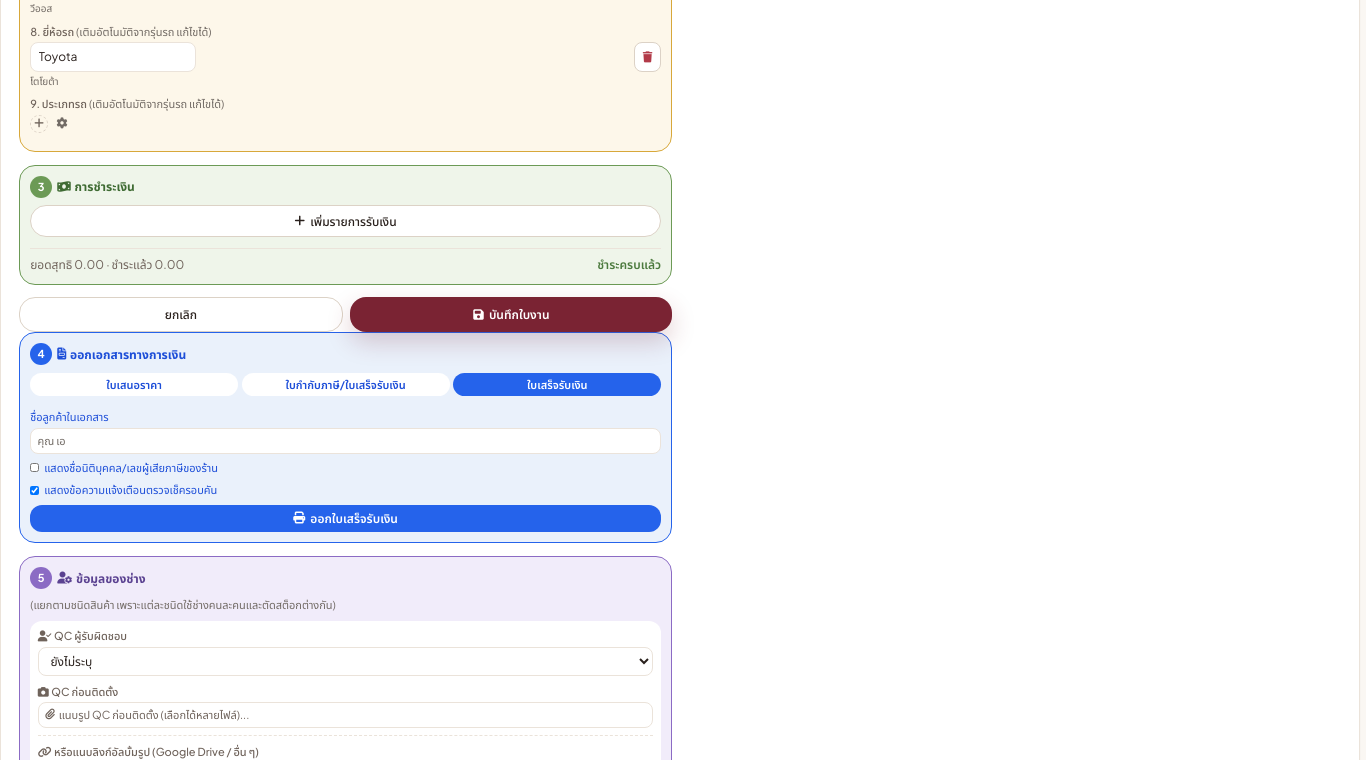
Test case: TicketDetail — บัญชีรับชำระบนใบเสนอราคา › puts the old choice back when the save is refused
This screenshot has width=1366, height=760.
(page scrolled)
Click the button "ใบเสนอราคา": (134, 385) [30,373,238,396]
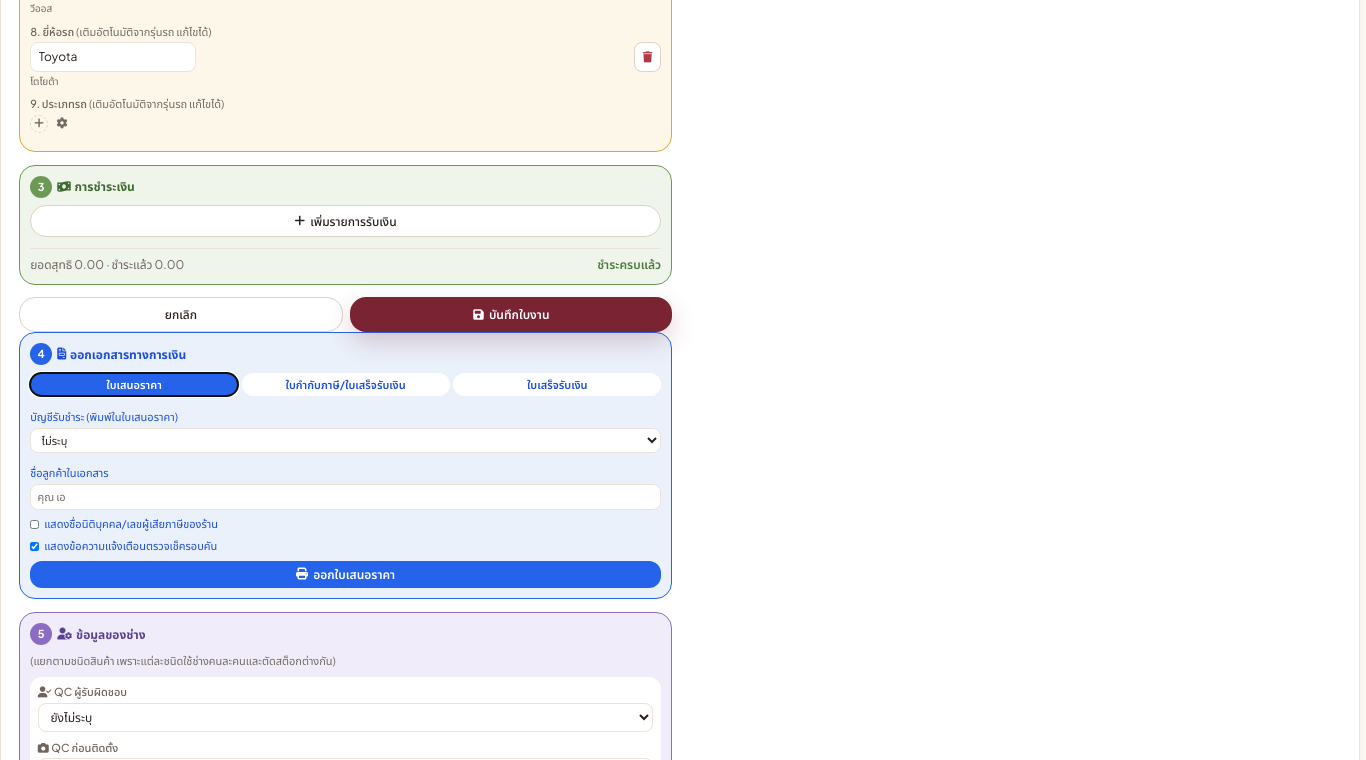
Select "กสิกร ออมทรัพย์ · เลขที่บัญชี 236-1-38053-6" in the dropdown named "บัญชีรับชำระ": (346, 440) [30,428,661,453]
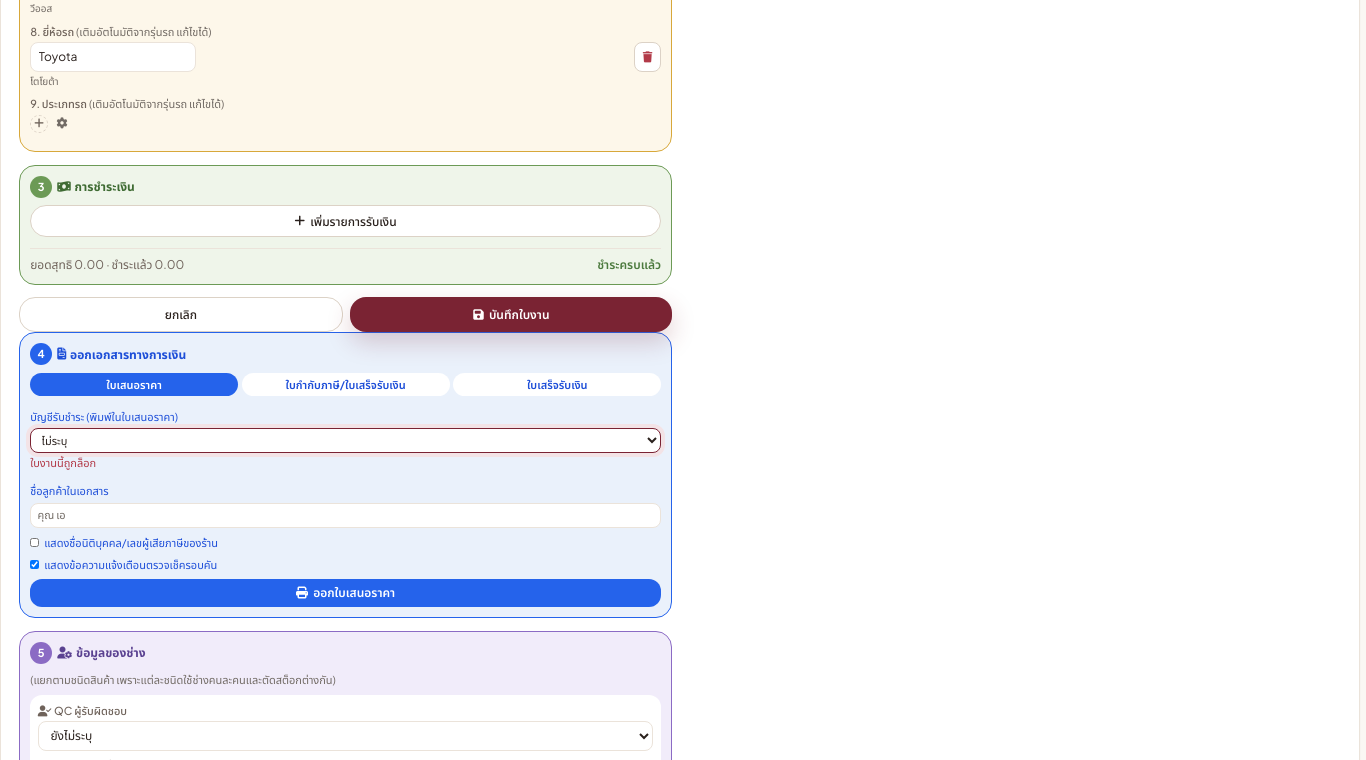
Expected: the text "ใบงานนี้ถูกล็อก" is shown, [30,456,96,469]
